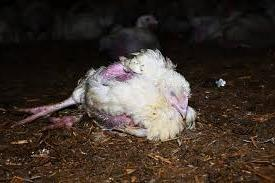AbNormal: (14, 46, 209, 143)
